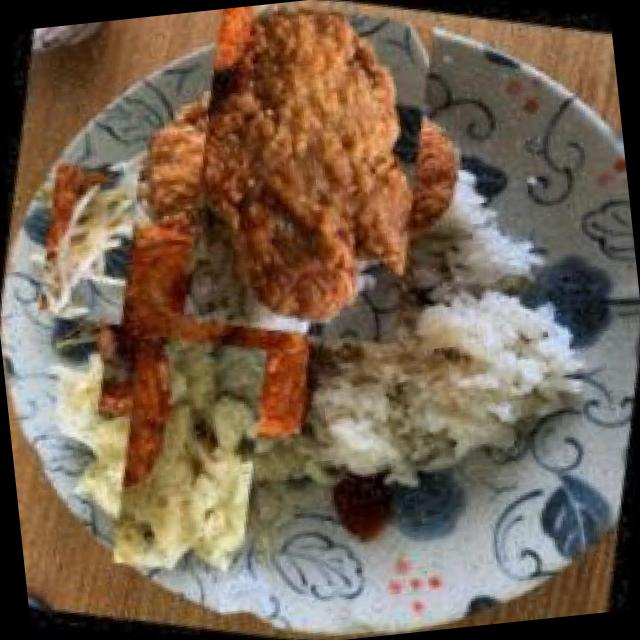chinese_cabbage: (70, 336, 310, 576)
fried_chicken: (128, 0, 488, 351)
mung_bean_sprouts: (20, 152, 157, 338)
rice: (291, 189, 588, 508)
triangle_hash_brown: (77, 209, 343, 462)
